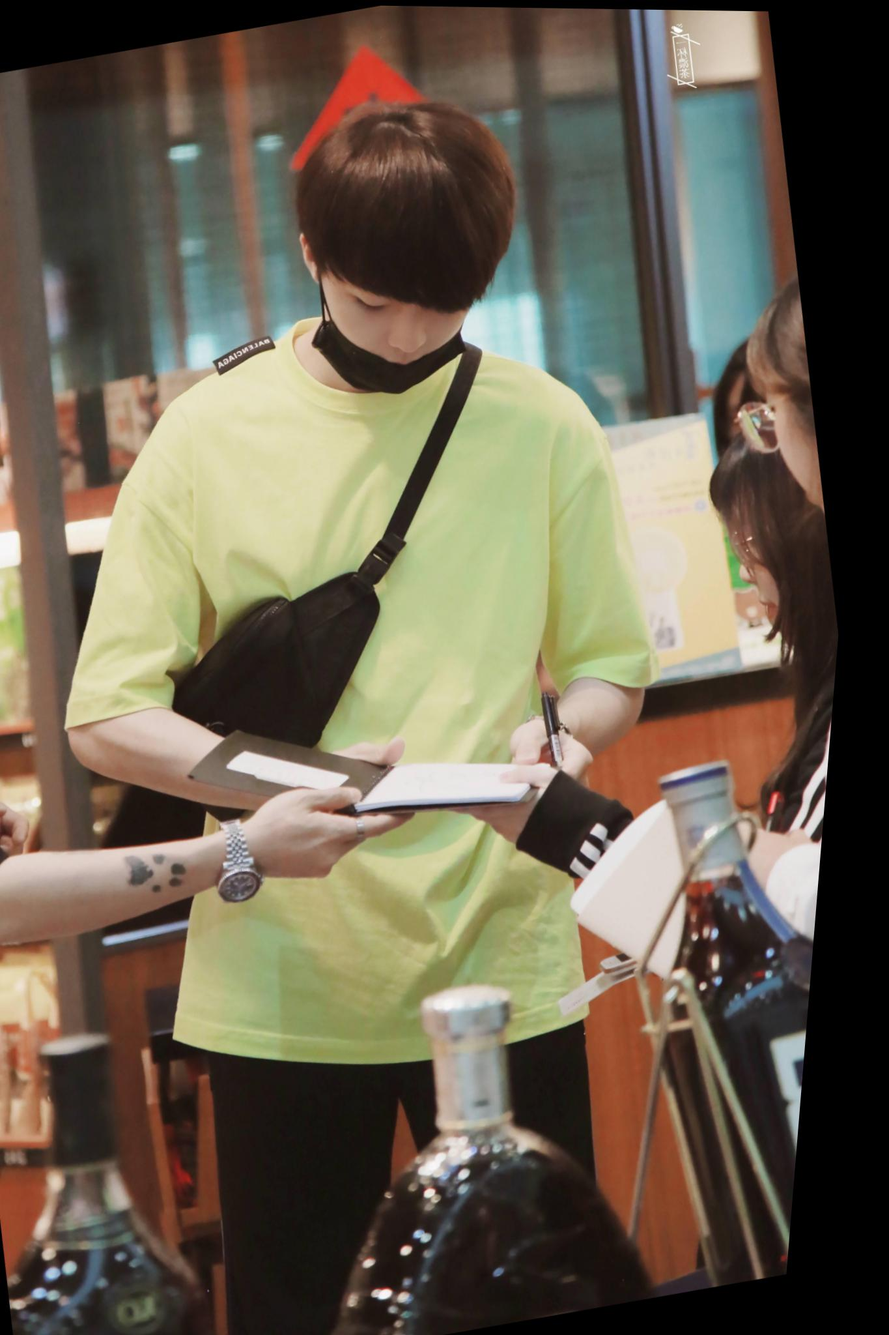WRONG: (311, 233, 494, 405)
